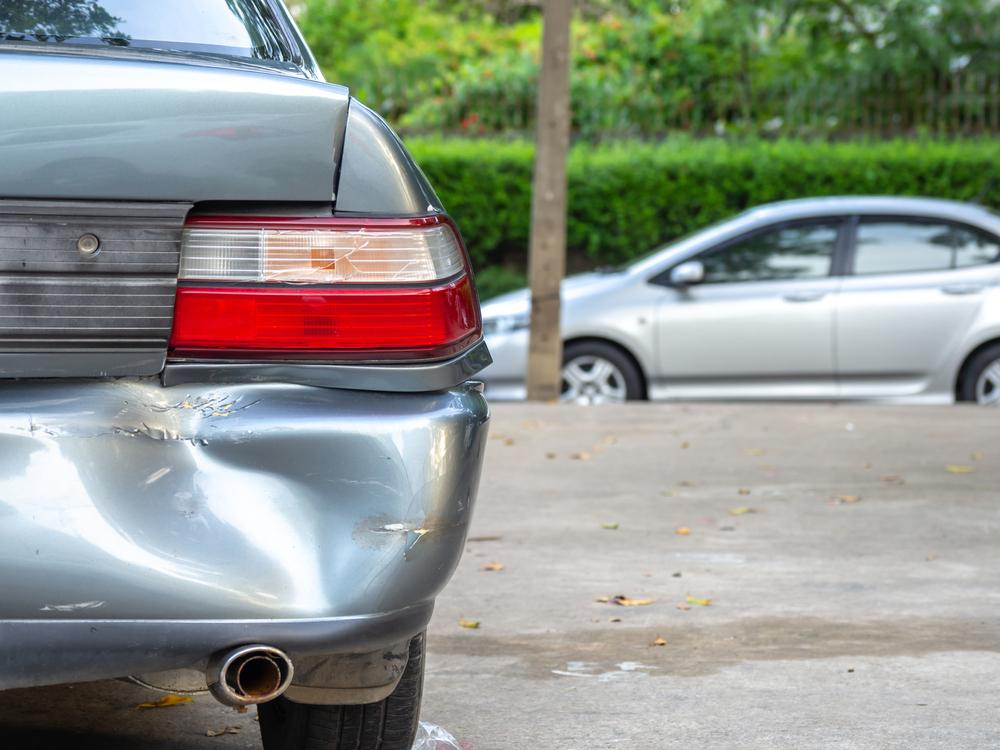dent: (0, 382, 412, 613)
lamp broken: (168, 214, 484, 368)
